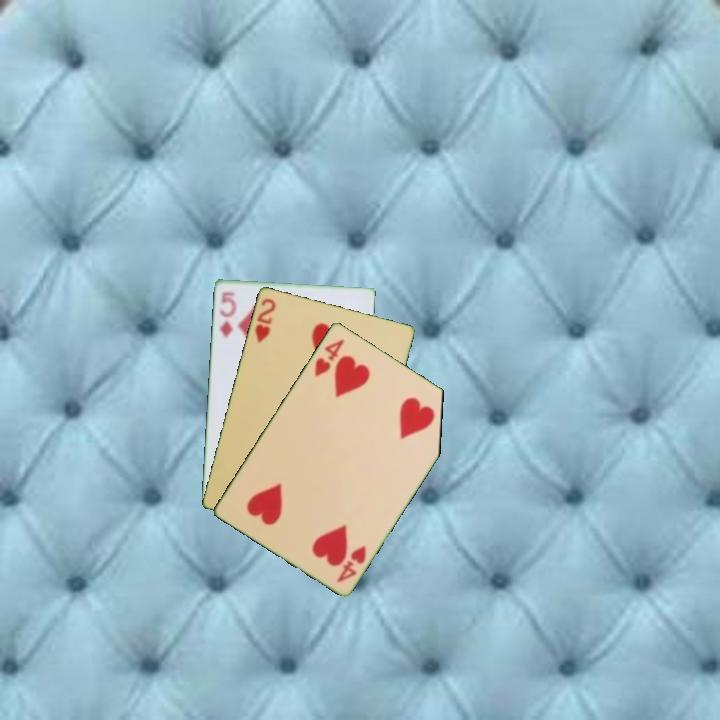2h: (251, 294, 278, 346)
4h: (311, 335, 347, 379), (333, 541, 369, 585)
5d: (216, 288, 239, 341)
